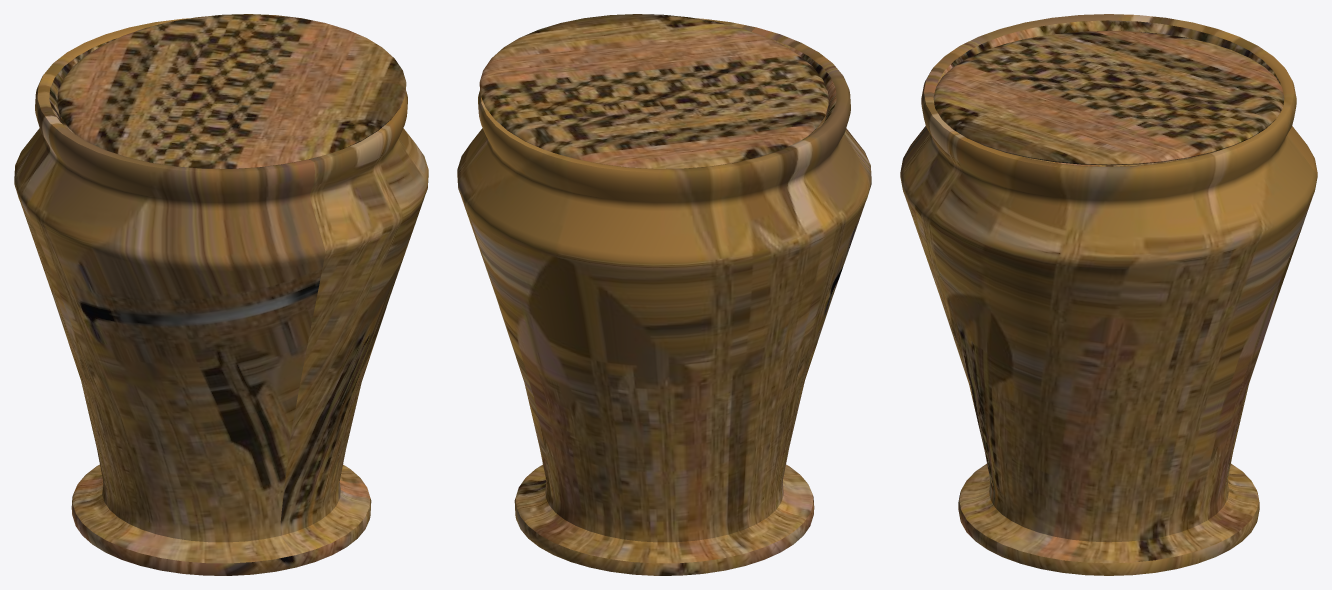
File: xi_oam_vasesharp.gltf
3 renders of one model, left to right at view 1: azimuth 30°, elevation 25°; view 2: azimuth 150°, elevation 25°; view 3: azimuth 270°, elevation 25°, orthographic.
Parts seen in each view (by area): view 1: xi_oam_vasesharp; view 2: xi_oam_vasesharp; view 3: xi_oam_vasesharp.
Boxes of the visible parts, left/top/right/bottom form: xi_oam_vasesharp: left=14, top=14, right=428, bottom=575; xi_oam_vasesharp: left=457, top=14, right=871, bottom=575; xi_oam_vasesharp: left=900, top=14, right=1317, bottom=575.
Bounding box in the file's own units: 0.5054 × 0.5769 × 0.5054.
Materials: 1 (1 with a texture image).
